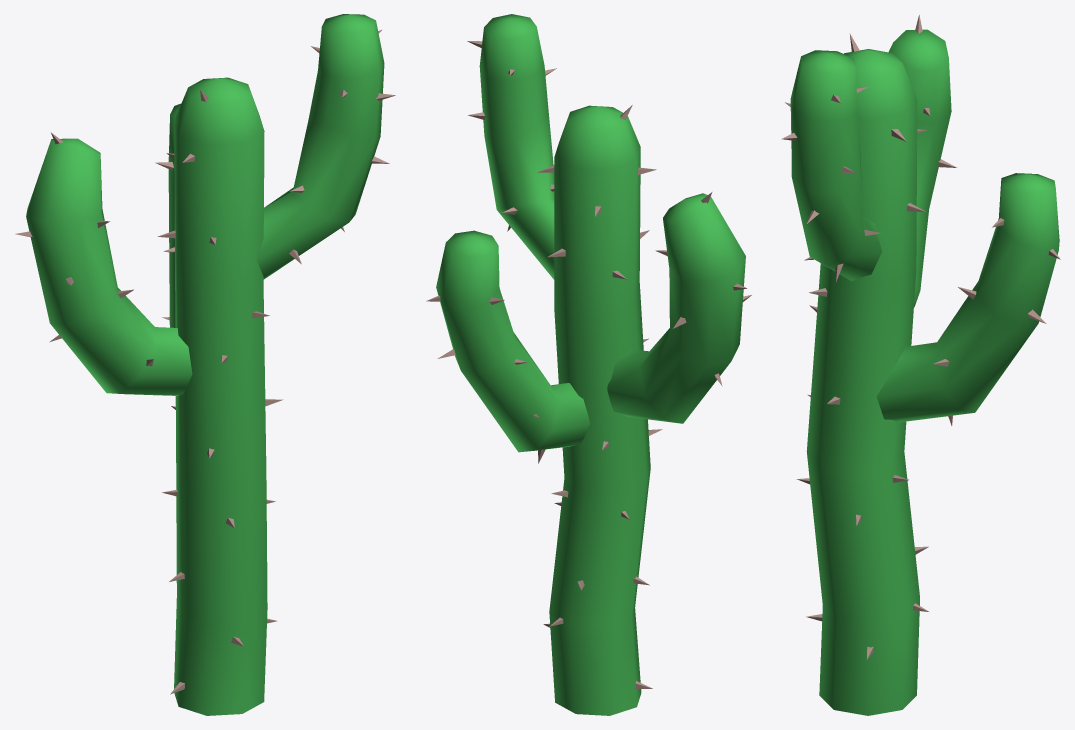
Rendered from Cactus5.fbx.
3 views of the same model, side by side, from view 1: azimuth 30°, elevation 25°; view 2: azimuth 150°, elevation 25°; view 3: azimuth 270°, elevation 25° (orthographic). The views are drawn at different scales.
Parts seen in each view (by area): view 1: Cactus5.001; view 2: Cactus5.001; view 3: Cactus5.001.
Part boxes in pixels (x1,y1,x2,y2): Cactus5.001: (15, 14, 395, 715); Cactus5.001: (426, 14, 751, 715); Cactus5.001: (782, 15, 1060, 715).
Bounding box in the file's own units: 0.9921 × 1.42 × 2.73.
